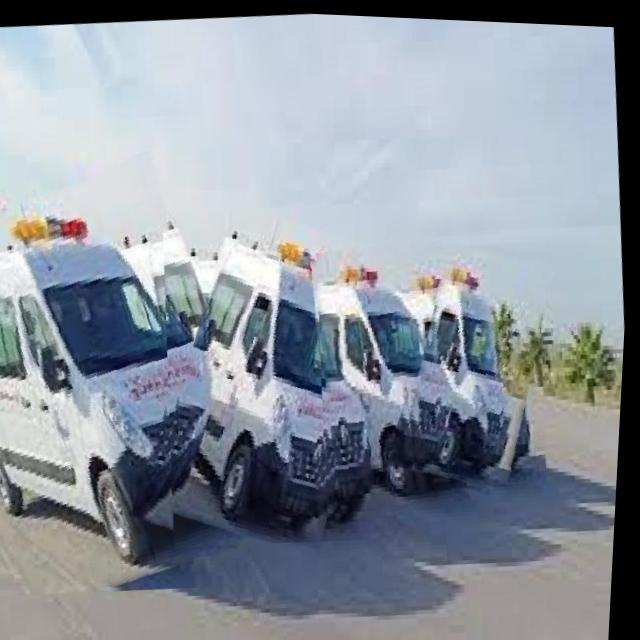ambulance: (0, 148, 287, 605), (151, 192, 410, 553), (307, 230, 481, 515), (386, 232, 562, 494)
